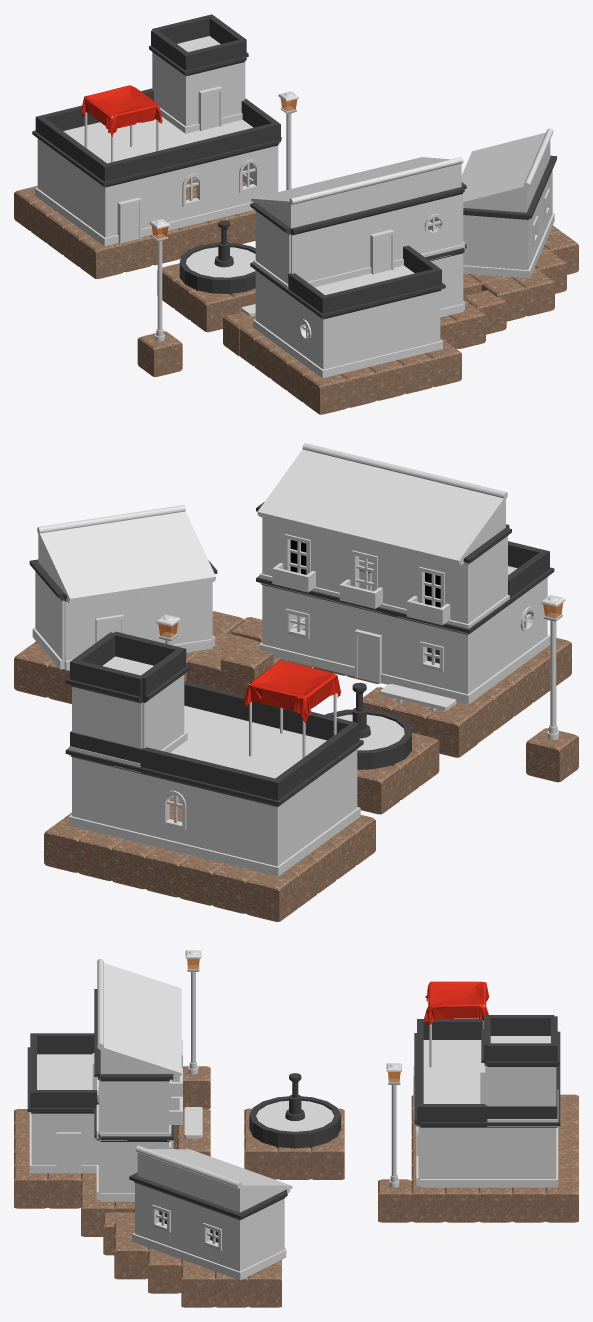
File: TinyTurnlevel.fbx
3 views of the same model, one above another, from view 1: azimuth 30°, elevation 25°; view 2: azimuth 150°, elevation 25°; view 3: azimuth 270°, elevation 25° (orthographic). The views are drawn at different scales.
Visible parts, largest first — view 1: 12_UF_Corner.106, 12_UF_Corner.108, 12_UF_Corner.097, 12_UF_Corner.102, 12_UF_Corner.107, 02_GF_Wall.111, 02_GF_Wall.118, 10_UF_Windowed.012, 02_GF_Wall.113, 02_GF_Wall.120, 15_R_Corner.036, Plane.004 (+60 smaller); view 2: 12_UF_Corner.100, 12_UF_Corner.098, 14_R_Center.111, 12_UF_Corner.103, 14_R_Center.108, 14_R_Center.098, 14_R_Center.104, 14_R_Center.101, 12_UF_Corner.099, 12_UF_Corner.105, 02_GF_Wall.112, 02_GF_Wall.115 (+55 smaller); view 3: 12_UF_Corner.109, 12_UF_Corner.099, 12_UF_Corner.104, 02_GF_Wall.114, 12_UF_Corner.101, 12_UF_Corner.108, 12_UF_Corner.107, 15_R_Corner.039, 15_R_Corner.033, 12_UF_Corner.105, Fountain_Base, 14_R_Center.104 (+41 smaller).
Part boxes in pixels (x1,y1,x2,y2): 12_UF_Corner.106: (286, 289, 383, 378); 12_UF_Corner.108: (463, 185, 544, 278); 12_UF_Corner.097: (68, 157, 165, 246); 12_UF_Corner.102: (149, 45, 246, 133); 12_UF_Corner.107: (381, 283, 445, 363); 02_GF_Wall.111: (163, 154, 222, 230); 02_GF_Wall.118: (291, 214, 350, 287); 10_UF_Windowed.012: (405, 187, 464, 260); 02_GF_Wall.113: (220, 140, 279, 217); 02_GF_Wall.120: (348, 201, 407, 278); 15_R_Corner.036: (35, 105, 129, 156); Plane.004: (81, 85, 162, 136); 12_UF_Corner.100: (206, 771, 321, 876); 12_UF_Corner.098: (396, 599, 511, 704); 14_R_Center.111: (37, 516, 142, 602); 12_UF_Corner.103: (397, 527, 511, 633); 14_R_Center.108: (111, 505, 215, 591); 14_R_Center.098: (391, 476, 507, 564); 14_R_Center.104: (257, 443, 371, 531); 14_R_Center.101: (324, 459, 438, 547); 12_UF_Corner.099: (65, 748, 141, 842); 12_UF_Corner.105: (256, 576, 331, 670); 02_GF_Wall.112: (139, 767, 208, 858); 02_GF_Wall.115: (330, 533, 398, 614); 12_UF_Corner.109: (185, 1191, 287, 1280); 12_UF_Corner.099: (487, 1092, 560, 1187); 12_UF_Corner.104: (100, 1074, 173, 1140); 02_GF_Wall.114: (420, 1122, 487, 1187); 12_UF_Corner.101: (487, 1031, 560, 1126); 12_UF_Corner.108: (129, 1172, 188, 1260); 12_UF_Corner.107: (27, 1078, 98, 1173); 15_R_Corner.039: (30, 1033, 94, 1081); 15_R_Corner.033: (417, 1019, 482, 1066); 12_UF_Corner.105: (100, 1125, 173, 1201); Fountain_Base: (249, 1073, 340, 1148); 14_R_Center.104: (97, 1015, 181, 1075).
Size of the model in its own units: 1527 by 624 by 1687.
Materials: 11 (2 with a texture image).
